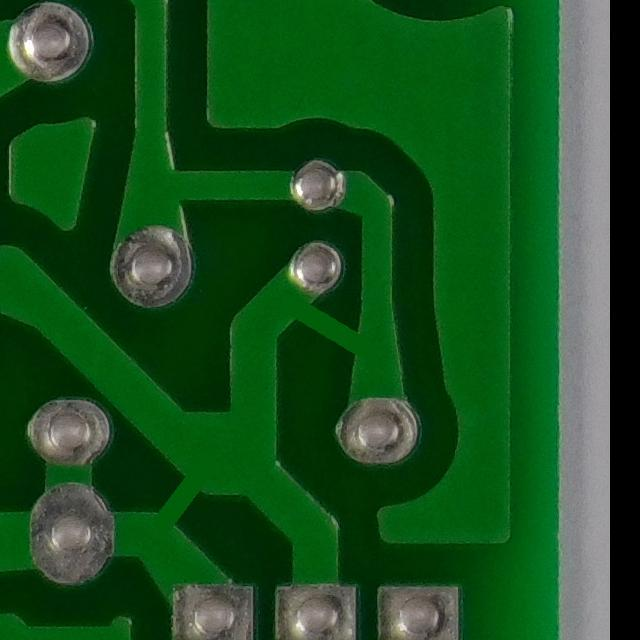short: (252, 263, 389, 377)
